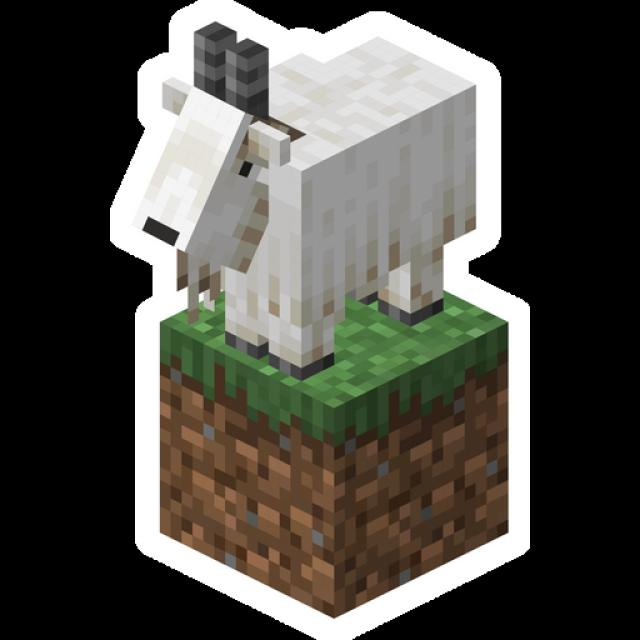Goat: (129, 19, 482, 389)
